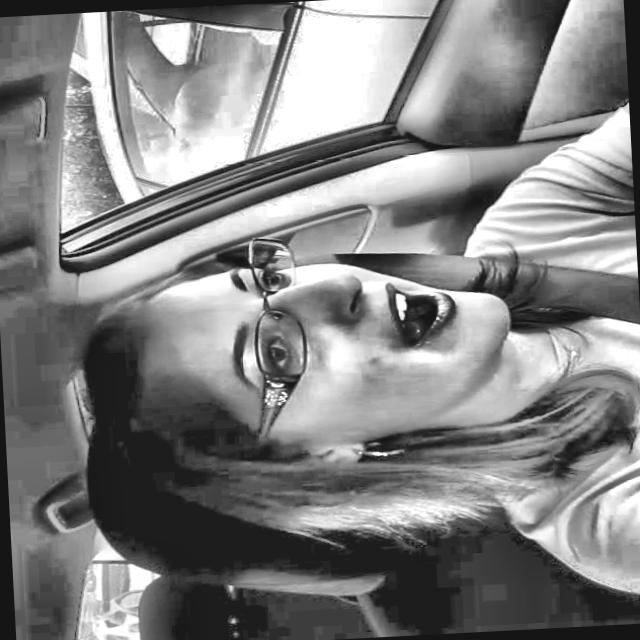open_eyes: (242, 314, 314, 383), (240, 241, 300, 296)
open_mouth: (372, 270, 472, 368)
